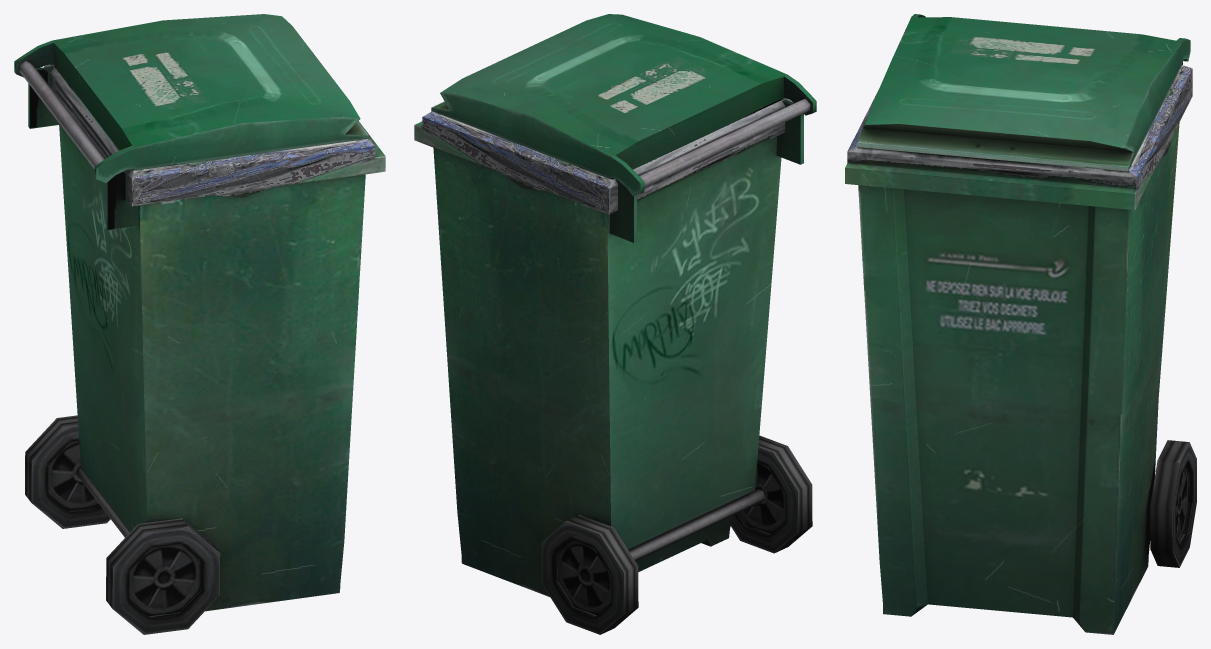
File: poubelle_1.glb
The picture shows the model from 3 angles, left to right: view 1: azimuth 30°, elevation 25°; view 2: azimuth 150°, elevation 25°; view 3: azimuth 270°, elevation 25°; orthographic projection. The views are drawn at different scales.
Visible parts, largest first — view 1: SM_TrashBin_Material #2_0; view 2: SM_TrashBin_Material #2_0; view 3: SM_TrashBin_Material #2_0.
Boxes of the visible parts, box(x1,y1,x2,y2) form: SM_TrashBin_Material #2_0: box(14, 14, 385, 634); SM_TrashBin_Material #2_0: box(414, 14, 816, 634); SM_TrashBin_Material #2_0: box(845, 14, 1196, 634).
Size of the model in its own units: 0.7162 by 1.11 by 0.6904.
1 material, 1 textured.
